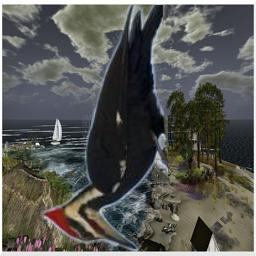Woodpecker: (38, 5, 168, 252)
